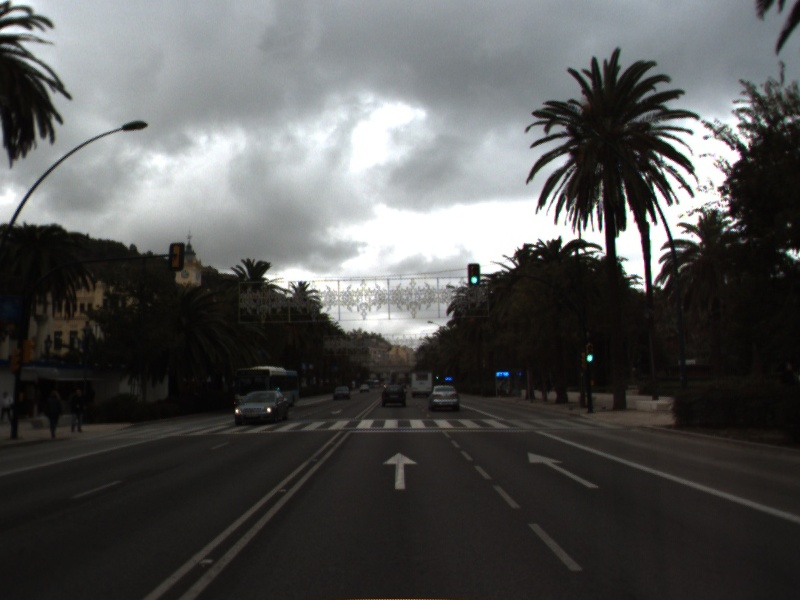STRAIGHT: (526, 450, 601, 490), (380, 450, 421, 491)
